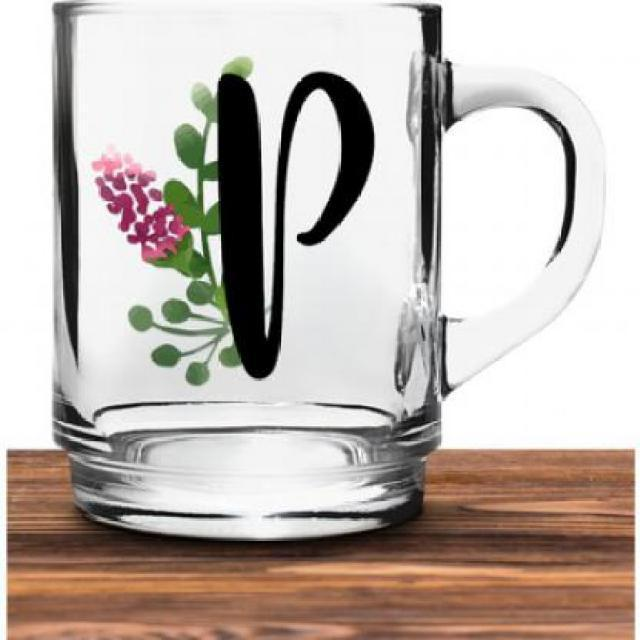taza: (53, 0, 605, 542)
